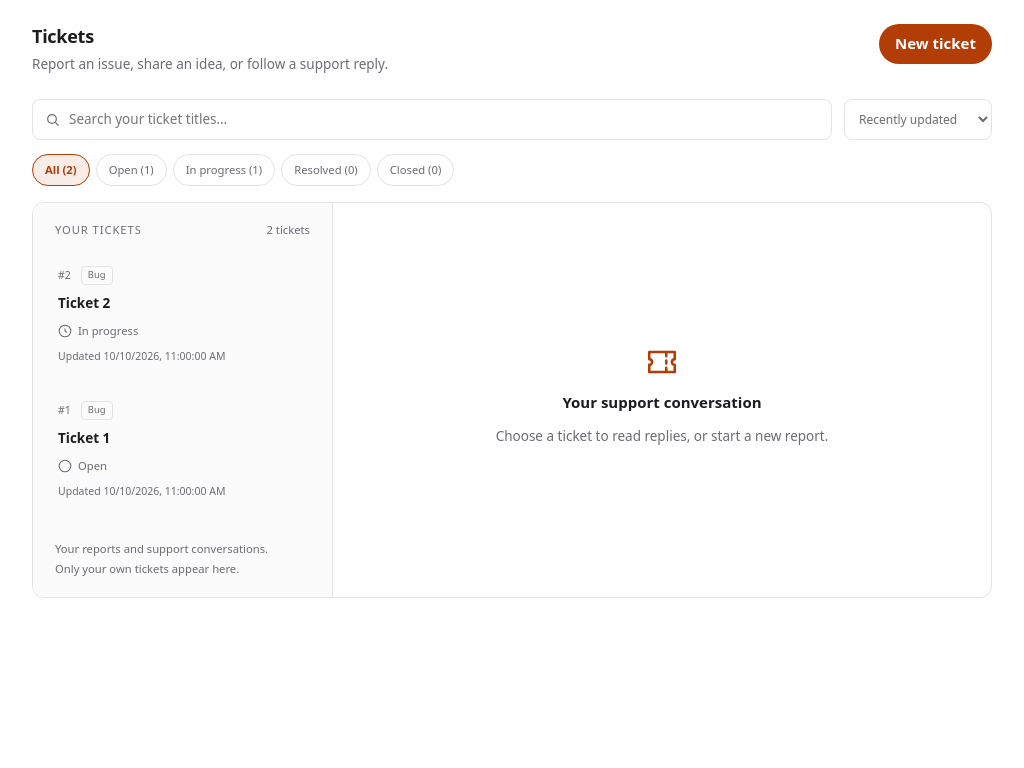
Test: TicketsView › files a ticket, tells the user its number and reloads
Click the button "New ticket" at (936, 44), box [879,24,992,64]
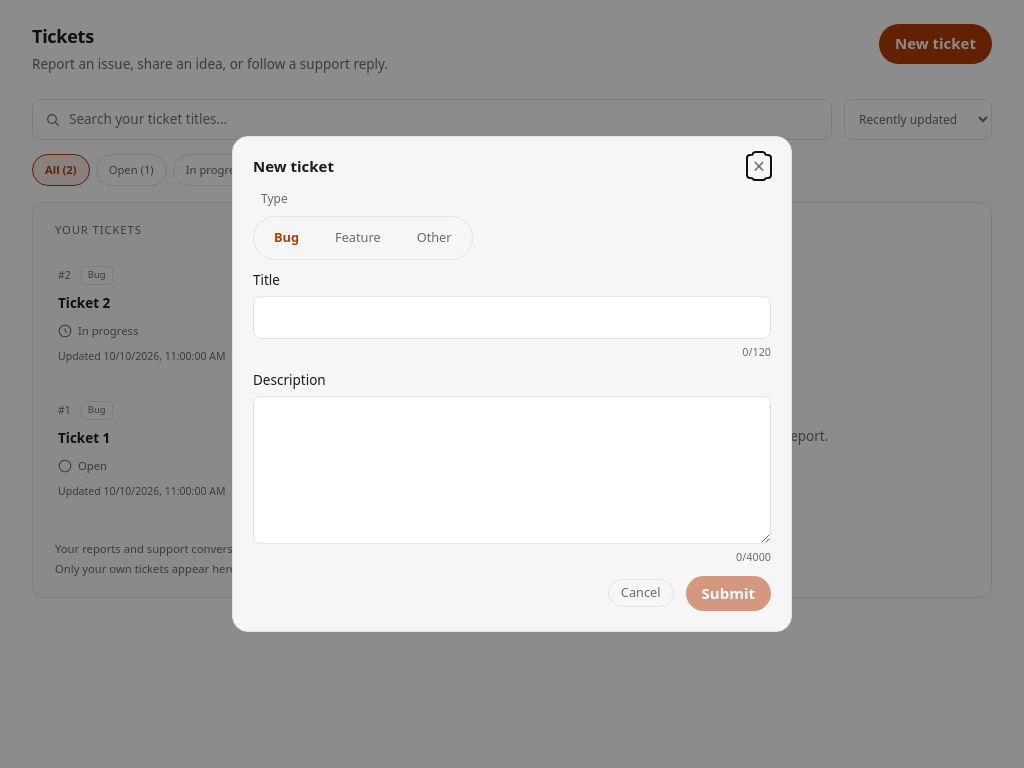
Result: the button with class "submit-ticket" is disabled at [686,576,771,611]
Type "Email fails" into the field named "Title" at (512, 317), box [253,296,771,339]
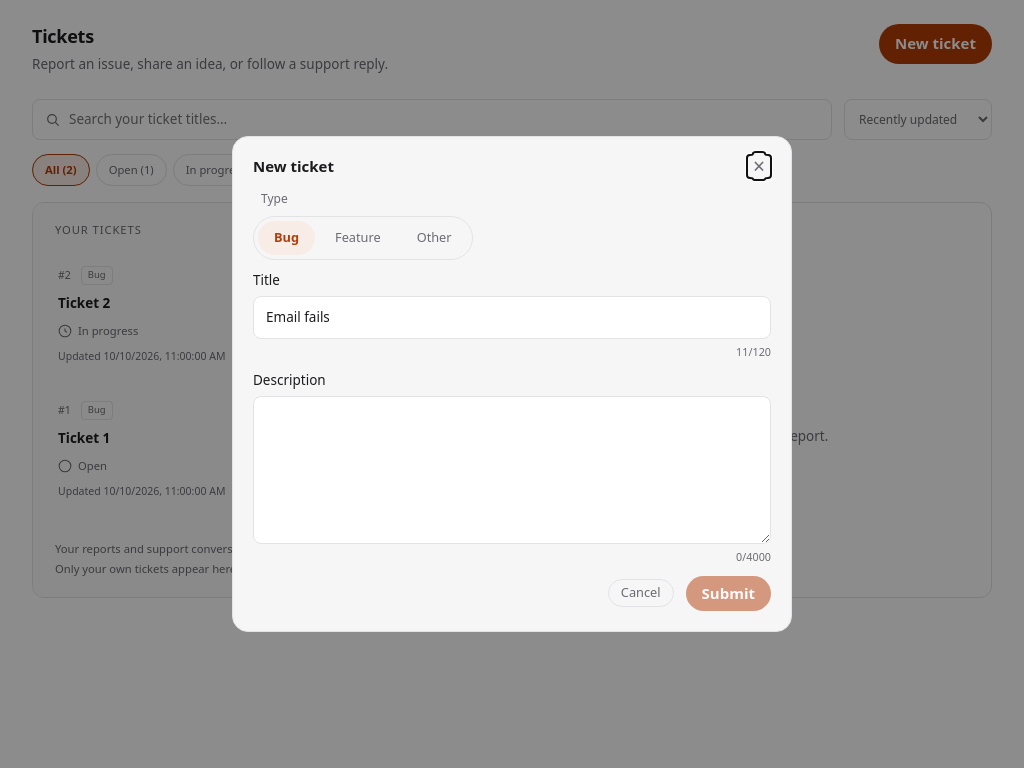
Type "It does not send" into the text box named "Description" at (512, 470), box [253,396,771,544]
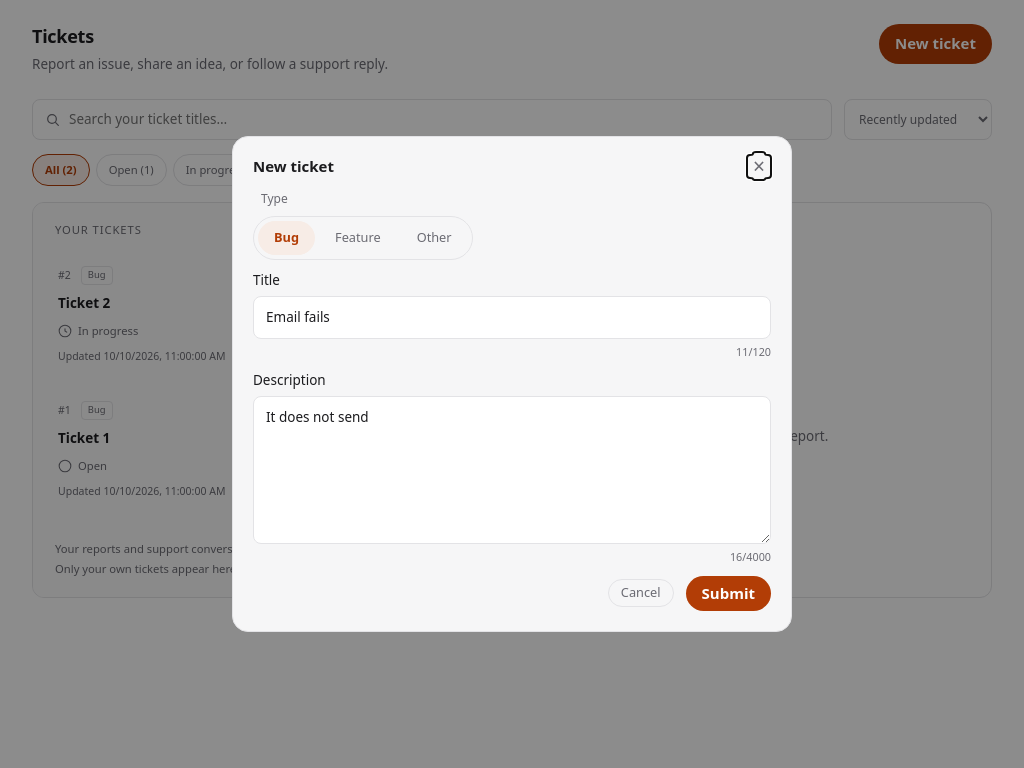
Result: the button with class "submit-ticket" is enabled
Click the button with class "submit-ticket" at (728, 593), box [686,576,771,611]
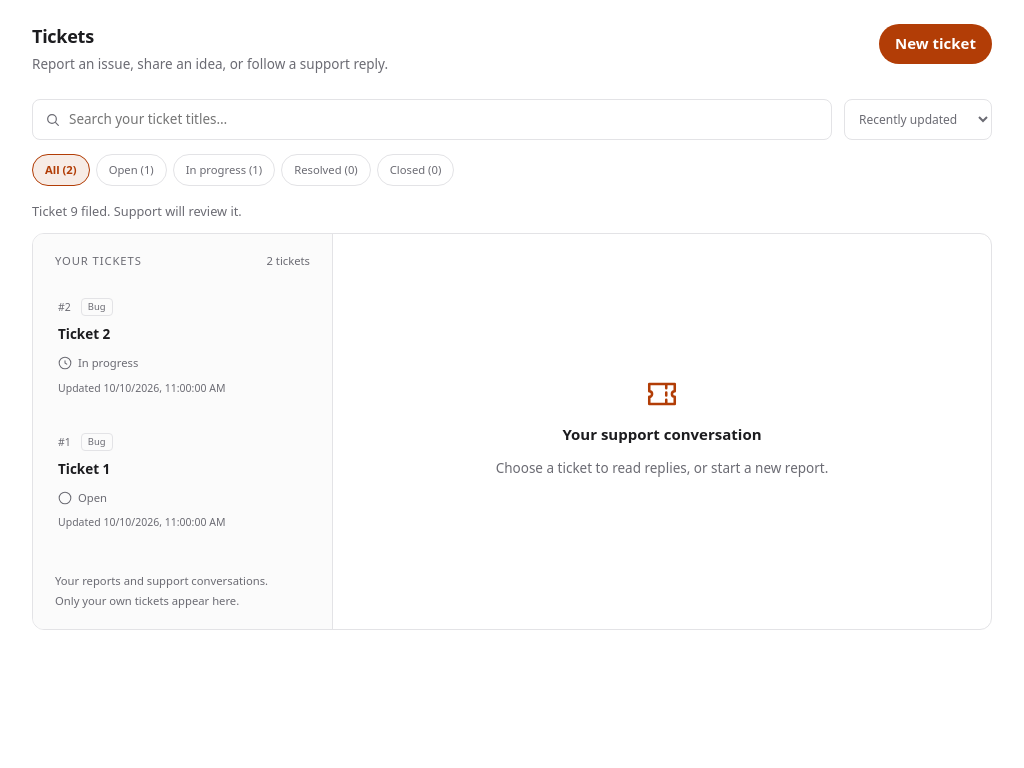
Result: the message with class "notice" reads "Ticket 9 filed. Support will review it." at [32,202,242,220]
